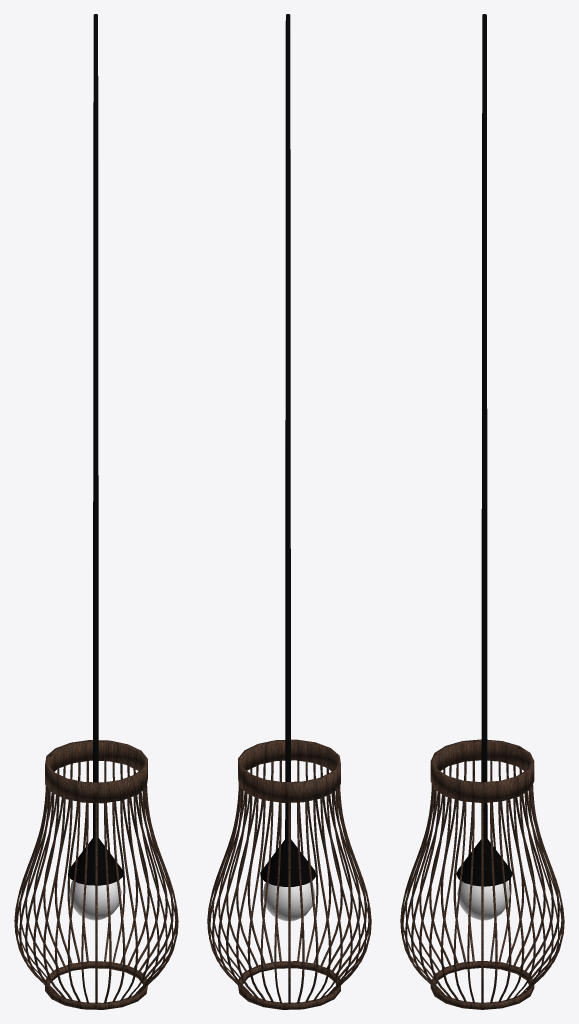
The model's file is living_light.fbx.
The picture shows the model from 3 angles, left to right: view 1: azimuth 30°, elevation 25°; view 2: azimuth 150°, elevation 25°; view 3: azimuth 270°, elevation 25°; orthographic projection.
Visible parts, largest first — view 1: 円.009, 円.002, 円.001; view 2: 円.009, 円.002, 円.001; view 3: 円.009, 円.002, 円.001.
Part boxes in pixels (<box>): 円.009: <box>14,740,178,1009</box>; 円.002: <box>68,14,123,885</box>; 円.001: <box>69,880,121,920</box>; 円.009: <box>207,739,371,1009</box>; 円.002: <box>260,14,315,886</box>; 円.001: <box>262,882,315,921</box>; 円.009: <box>400,739,564,1009</box>; 円.002: <box>456,14,512,886</box>; 円.001: <box>457,881,510,920</box>.
Bounding box in the file's own units: 26.13 × 171 × 26.13.
